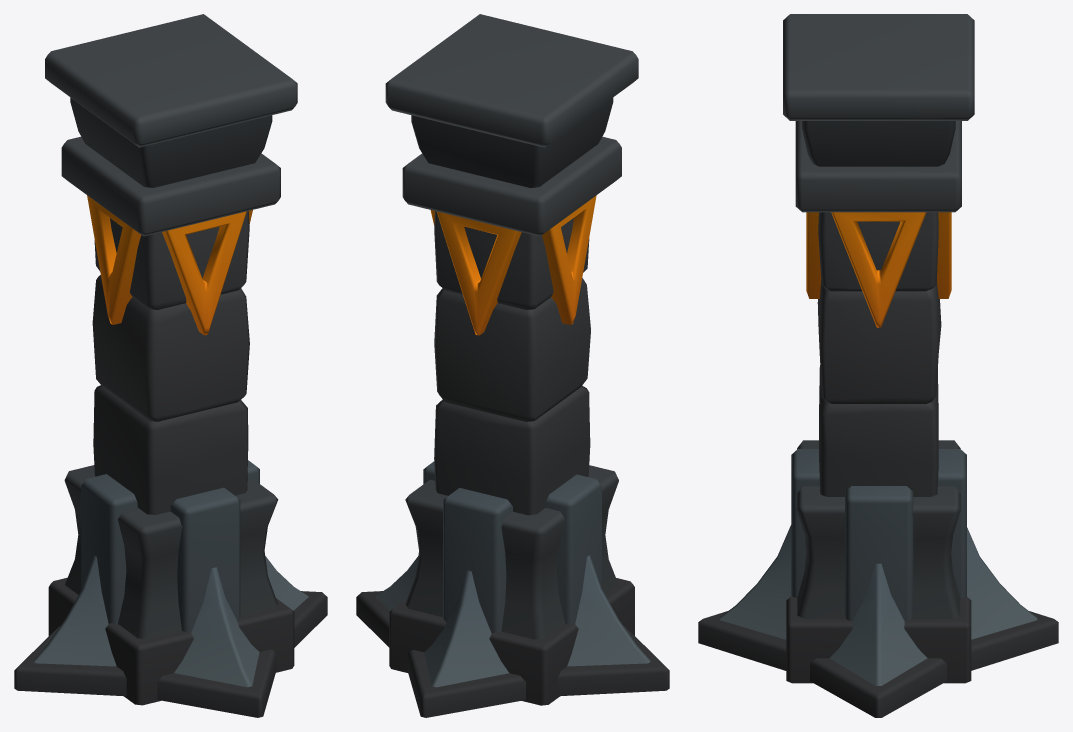
The model's file is inferno-column-big-001.glb.
3 views of the same model, side by side, from view 1: azimuth 30°, elevation 25°; view 2: azimuth 150°, elevation 25°; view 3: azimuth 270°, elevation 25° (orthographic).
Parts seen in each view (by area): view 1: ColumnBig_001; view 2: ColumnBig_001; view 3: ColumnBig_001.
Part boxes in pixels (left/top/right/bottom): ColumnBig_001: left=14, top=14, right=327, bottom=717; ColumnBig_001: left=356, top=14, right=669, bottom=717; ColumnBig_001: left=698, top=14, right=1058, bottom=717.
Bounding box in the file's own units: 4.52 × 8.2 × 4.52.
2 materials, 2 textured.
